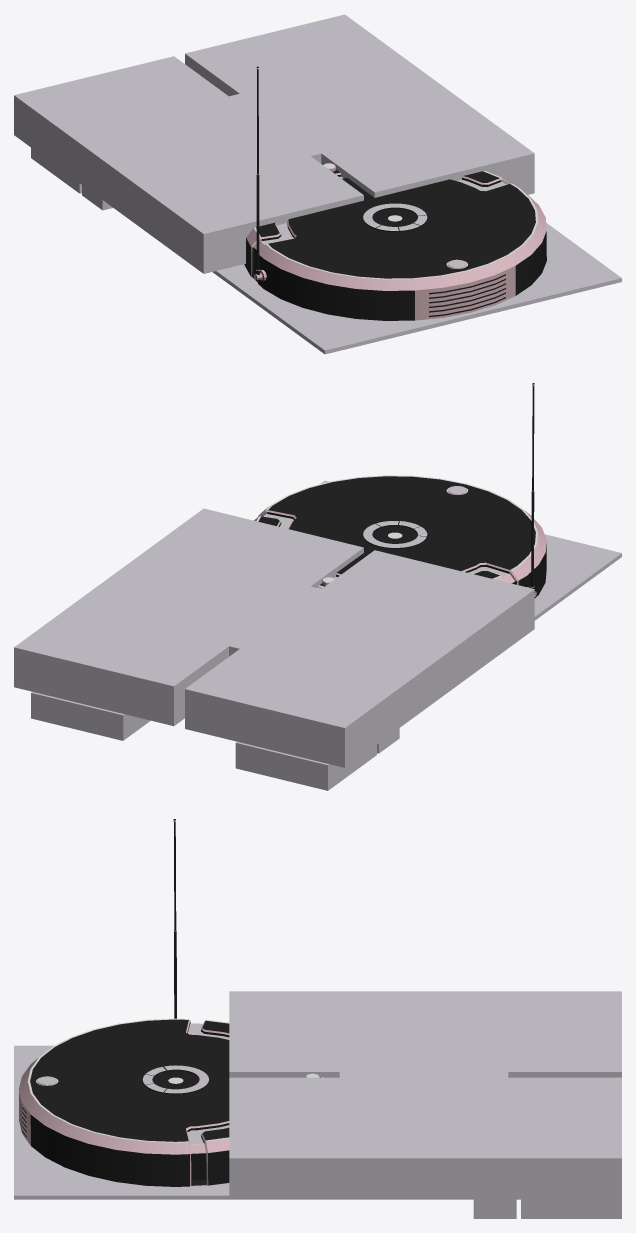
The model's file is Vacuum.fbx.
3 views of the same model, one above another, from view 1: azimuth 30°, elevation 25°; view 2: azimuth 150°, elevation 25°; view 3: azimuth 270°, elevation 25° (orthographic). The views are drawn at different scales.
Parts seen in each view (by area): view 1: Cleaner, TriggerTopLeft, MainTrigger, TriggerTopRight, TriggerFloor, TriggerBottomLeft; view 2: TriggerTopLeft, TriggerTopRight, MainTrigger, Cleaner, TriggerFloor, TriggerBottomLeft, TriggerBottomRight; view 3: TriggerTopRight, Cleaner, MainTrigger, TriggerTopLeft, TriggerFloor, TriggerBottomRight, TriggerBottomRightBack.
Part boxes in pixels (x1=…): Cleaner: x1=244, y1=66, x2=546, y2=320; TriggerTopLeft: x1=14, y1=56, x2=363, y2=273; MainTrigger: x1=86, y1=59, x2=463, y2=190; TriggerTopRight: x1=185, y1=14, x2=534, y2=197; TriggerFloor: x1=212, y1=223, x2=621, y2=354; TriggerBottomLeft: x1=31, y1=148, x2=81, y2=193; TriggerTopLeft: x1=185, y1=550, x2=534, y2=767; TriggerTopRight: x1=14, y1=508, x2=363, y2=726; MainTrigger: x1=86, y1=551, x2=463, y2=683; Cleaner: x1=254, y1=383, x2=546, y2=598; TriggerFloor: x1=321, y1=480, x2=621, y2=620; TriggerBottomLeft: x1=235, y1=741, x2=376, y2=790; TriggerBottomRight: x1=31, y1=692, x2=150, y2=740; TriggerTopRight: x1=229, y1=1077, x2=621, y2=1199; Cleaner: x1=19, y1=819, x2=323, y2=1186; MainTrigger: x1=339, y1=1000, x2=508, y2=1149; TriggerTopLeft: x1=229, y1=991, x2=621, y2=1077; TriggerFloor: x1=14, y1=1045, x2=229, y2=1199; TriggerBottomRight: x1=521, y1=1199, x2=621, y2=1218; TriggerBottomRightBack: x1=473, y1=1199, x2=516, y2=1218.
Bounding box in the file's own units: 0.5854 × 0.4169 × 0.9007.
